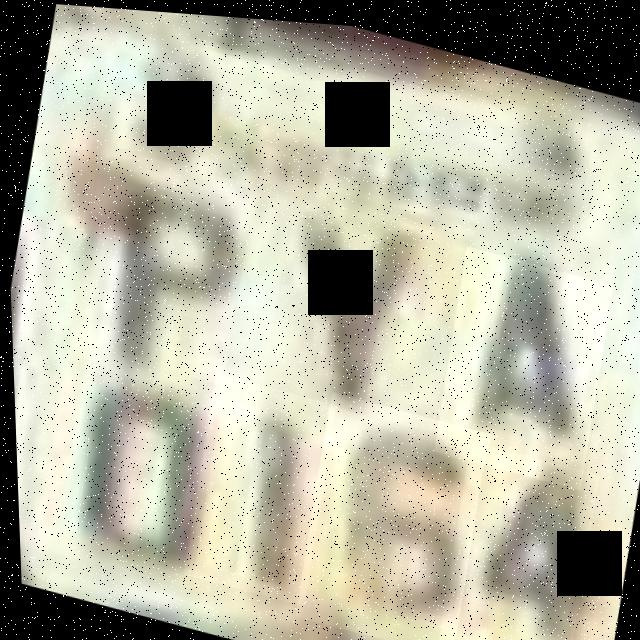0: (25, 316, 250, 593)
1: (173, 367, 342, 605)
4: (430, 432, 602, 640)
6: (285, 384, 493, 640)
A: (425, 237, 618, 484)
N: (420, 223, 620, 484)
P: (63, 142, 259, 385)
Y: (254, 174, 444, 424)
